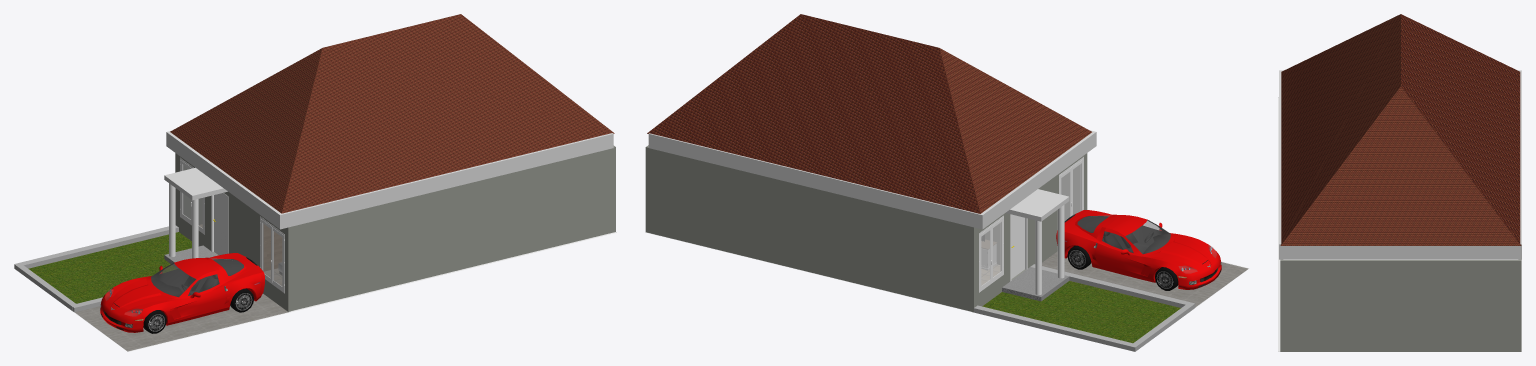
3 views of the same model, side by side, from view 1: azimuth 30°, elevation 25°; view 2: azimuth 150°, elevation 25°; view 3: azimuth 270°, elevation 25° (orthographic). The views are drawn at different scales.
Visible parts, largest first — view 1: rumah5-exterior; view 2: rumah5-exterior; view 3: rumah5-exterior.
Boxes of the visible parts, x1,y1,x2,y2 form: rumah5-exterior: (14,14,616,351); rumah5-exterior: (645,14,1248,351); rumah5-exterior: (1278,14,1521,351).
Bounding box in the file's own units: 1504 × 590 × 608.
86 materials, 25 textured.
